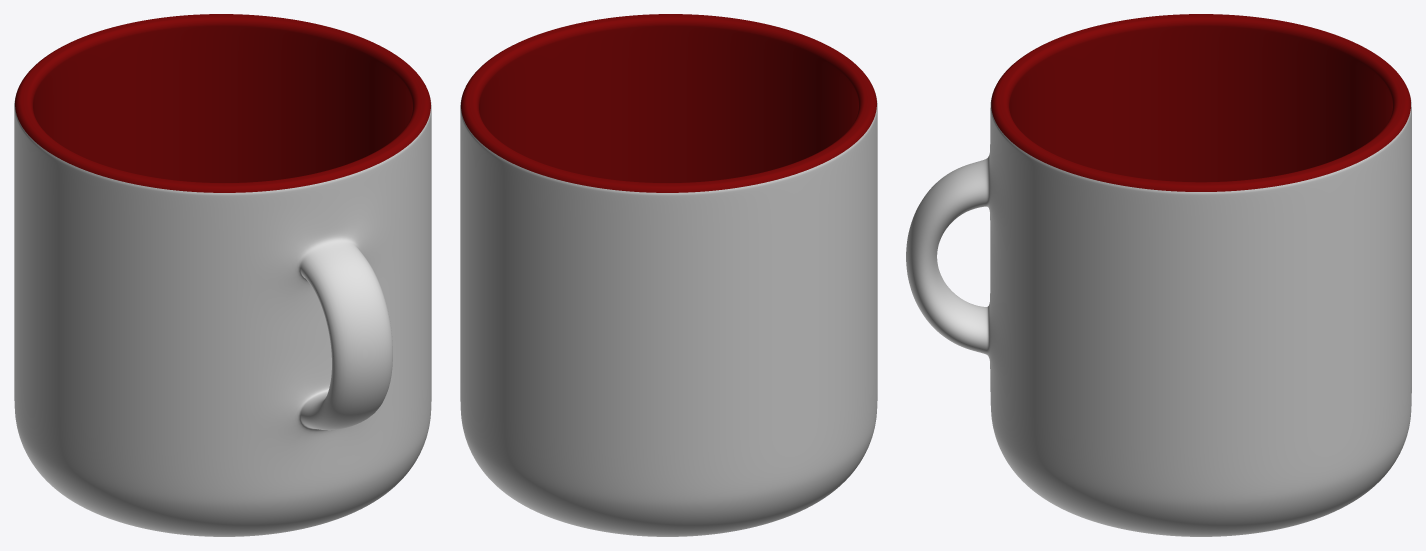
The model's file is cup.FBX.
3 views of the same model, side by side, from view 1: azimuth 30°, elevation 25°; view 2: azimuth 150°, elevation 25°; view 3: azimuth 270°, elevation 25° (orthographic).
Visible parts, largest first — view 1: Line001; view 2: Line001; view 3: Line001.
Part boxes in pixels (box(x1,y1,x2,y2)): Line001: box(14, 14, 431, 536); Line001: box(460, 14, 877, 536); Line001: box(906, 14, 1411, 536).
Bounding box in the file's own units: 0.3337 × 0.3259 × 0.4044.
